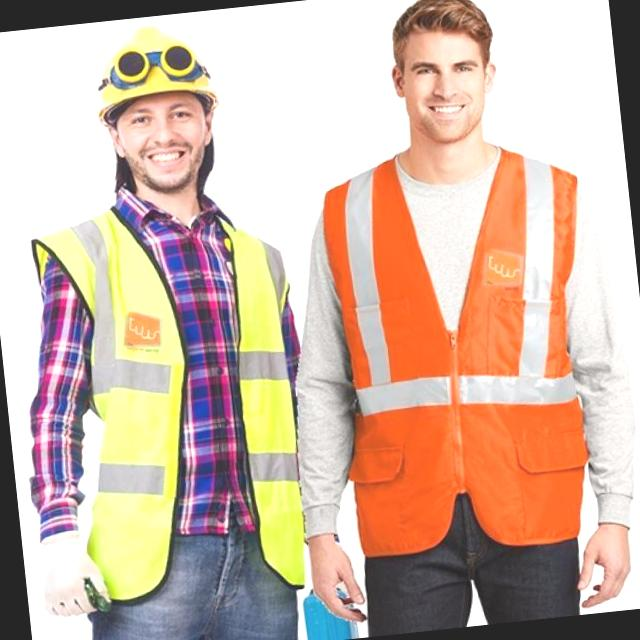helmet: (72, 20, 234, 125)
vest: (314, 120, 617, 535), (54, 187, 319, 626)
